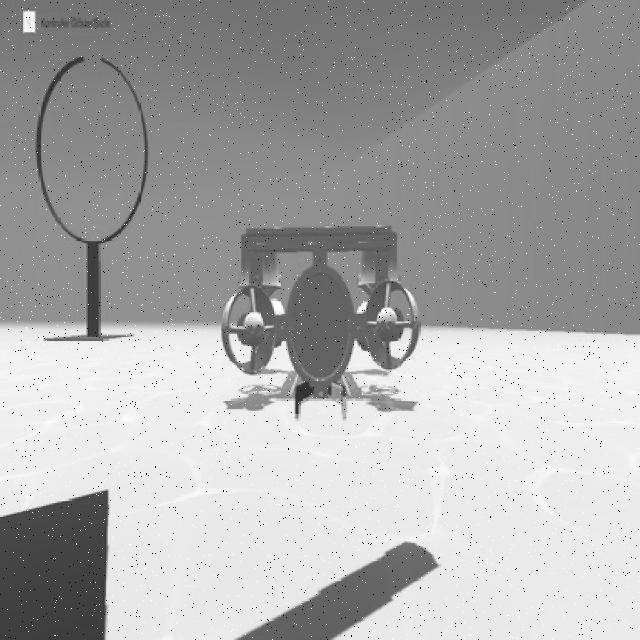Circle: (34, 52, 150, 248)
